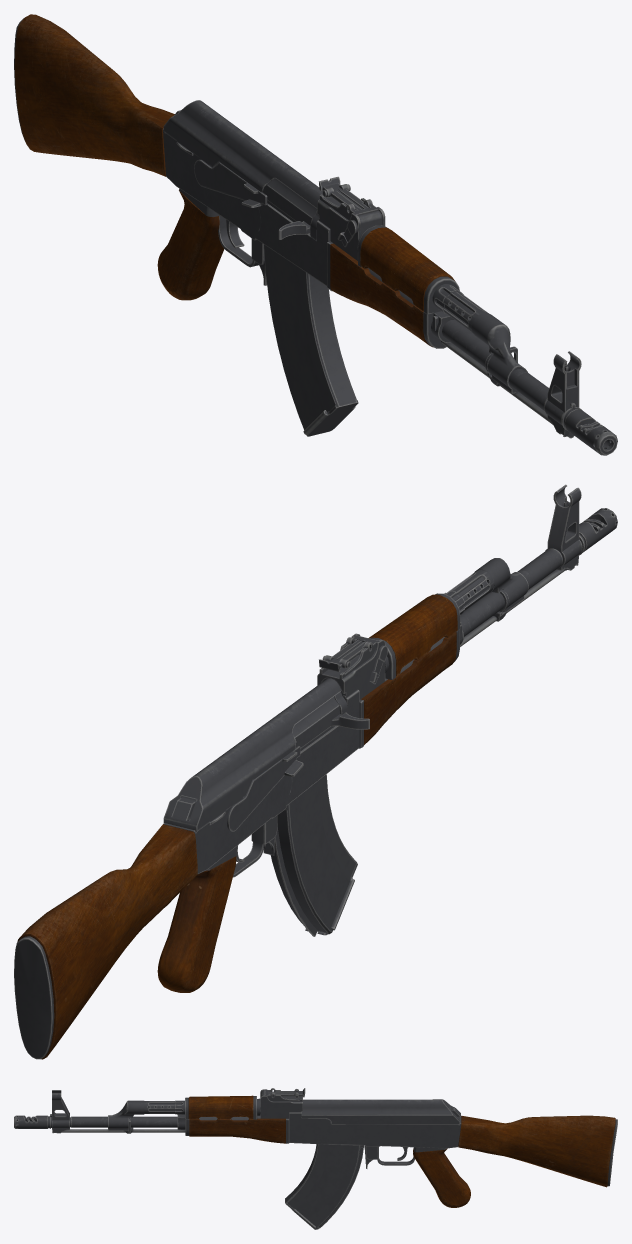
3 renders of one model, top to bottom at view 1: azimuth 30°, elevation 25°; view 2: azimuth 150°, elevation 25°; view 3: azimuth 270°, elevation 25°, orthographic. The views are drawn at different scales.
Parts seen in each view (by area): view 1: ak47, mag, bolt; view 2: ak47, mag, bolt; view 3: ak47, mag.
Boxes of the visible parts, bbox=[...] form: ak47: bbox=[14, 14, 617, 455]; mag: bbox=[264, 244, 358, 436]; bolt: bbox=[262, 178, 317, 239]; ak47: bbox=[14, 484, 617, 1059]; mag: bbox=[270, 774, 357, 936]; bolt: bbox=[292, 696, 369, 751]; ak47: bbox=[14, 1088, 617, 1207]; mag: bbox=[285, 1144, 364, 1229].
Bounding box in the file's own units: 0.0619 × 0.237 × 0.944.
1 material, 1 textured.
